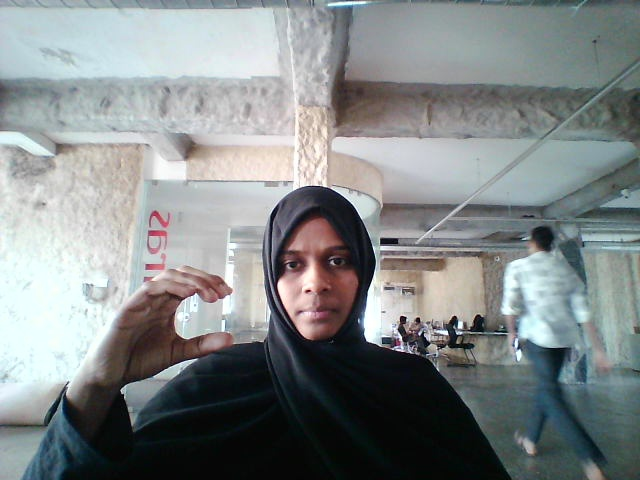NO: (68, 238, 243, 393)
